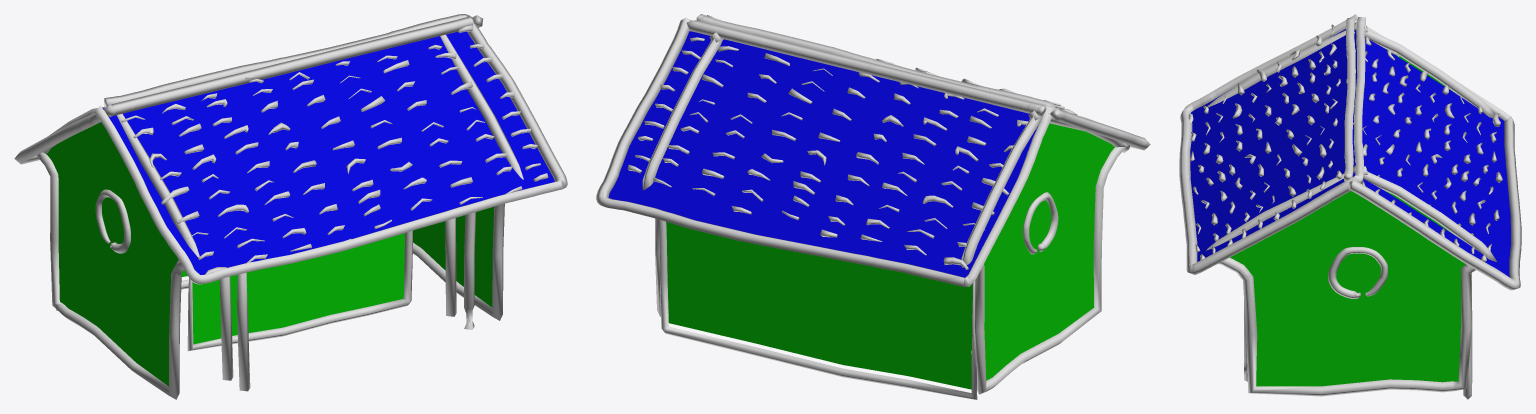
Rendered from house1.fbx.
The picture shows the model from 3 angles, left to right: view 1: azimuth 30°, elevation 25°; view 2: azimuth 150°, elevation 25°; view 3: azimuth 270°, elevation 25°; orthographic projection. The views are drawn at different scales.
Visible parts, largest first — view 1: GP_Layer.002; view 2: GP_Layer.002; view 3: GP_Layer.002.
Part boxes in pixels (left/top/right/bottom): GP_Layer.002: left=14, top=14, right=567, bottom=399; GP_Layer.002: left=596, top=14, right=1150, bottom=399; GP_Layer.002: left=1179, top=14, right=1521, bottom=399.
Size of the model in its own units: 583 by 380 by 491.
